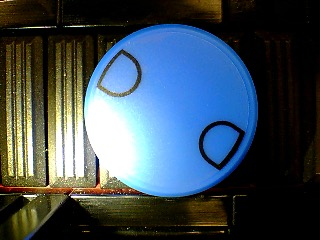MIPO2: (82, 22, 259, 198)
